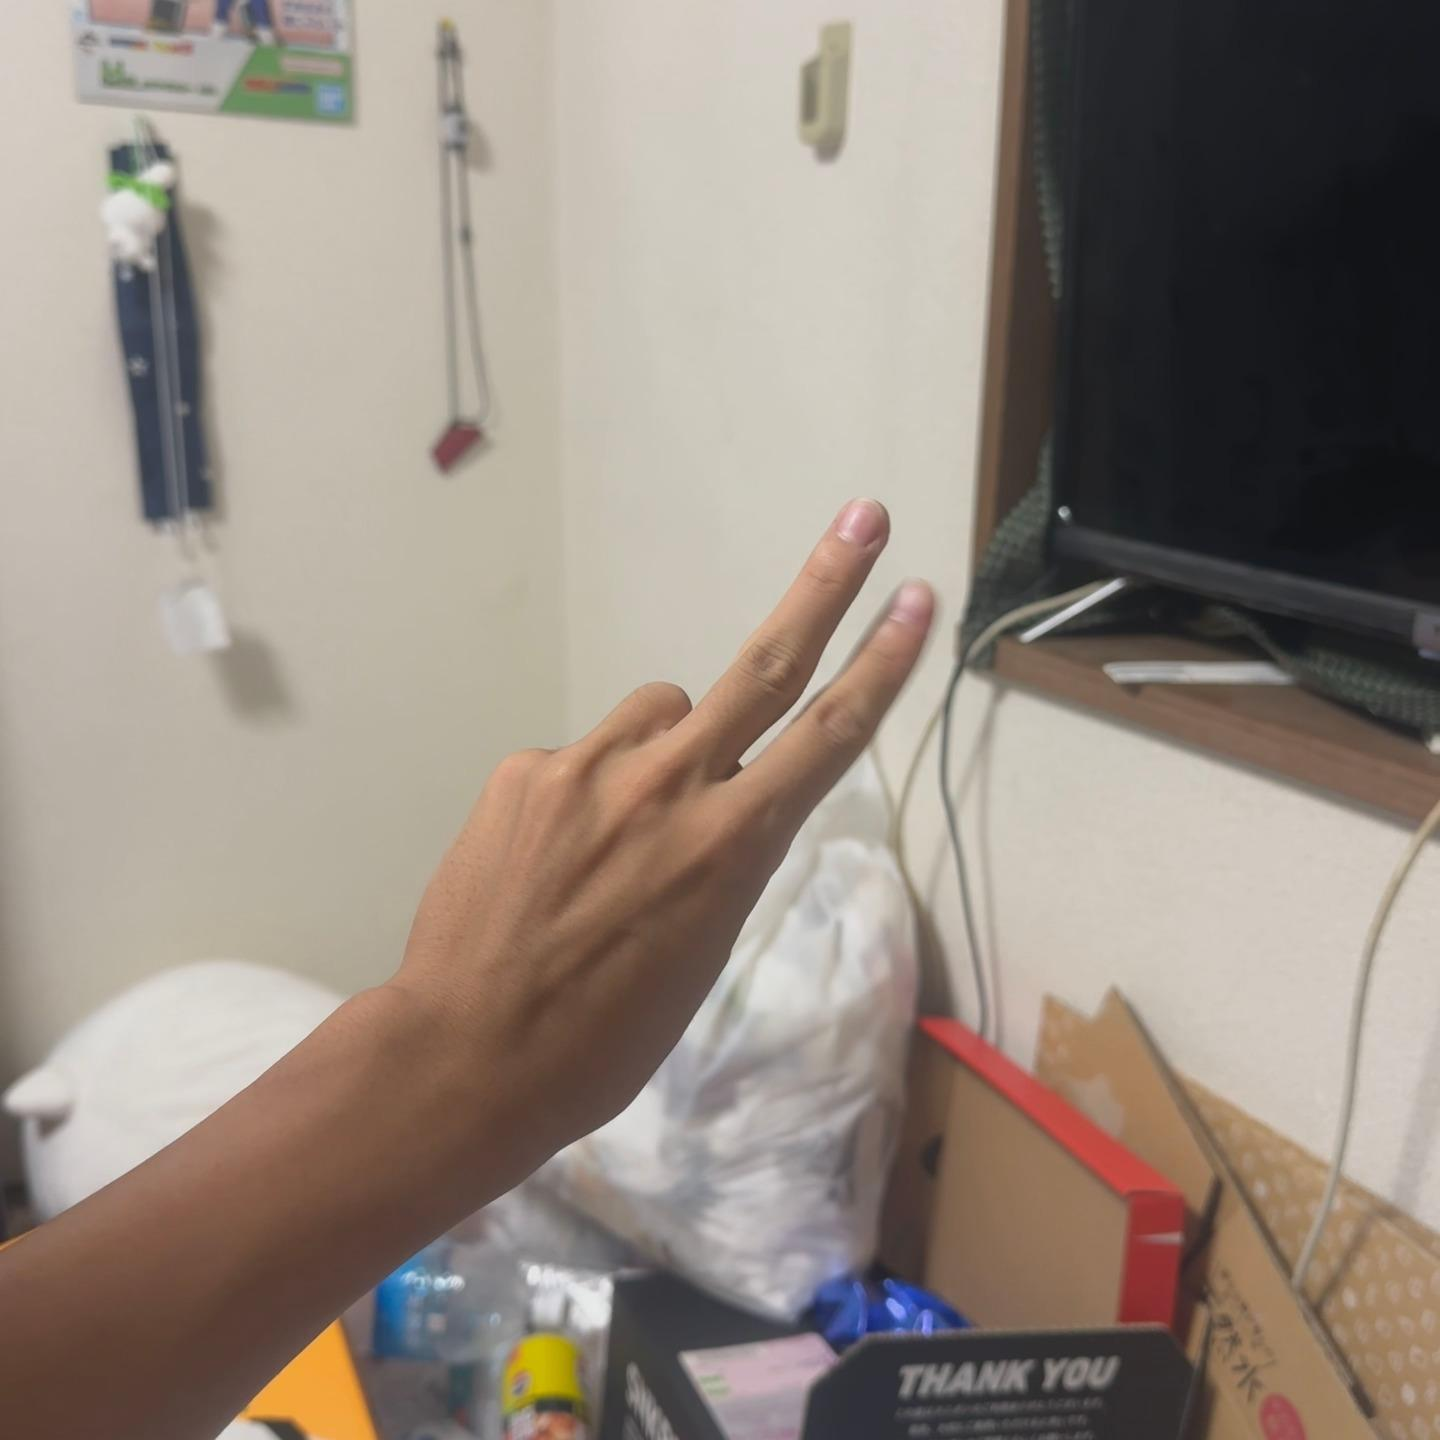without_gloves: (315, 430, 1103, 1189)
